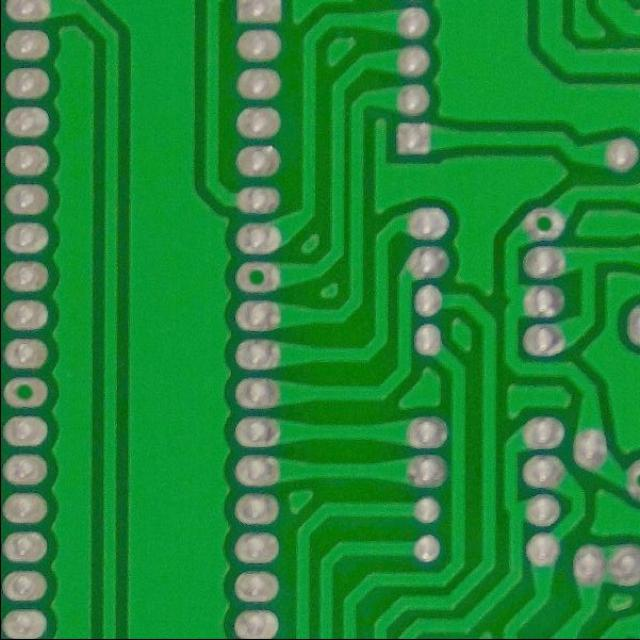missing_hole: (1, 368, 52, 419), (520, 199, 570, 246), (227, 255, 281, 298)
